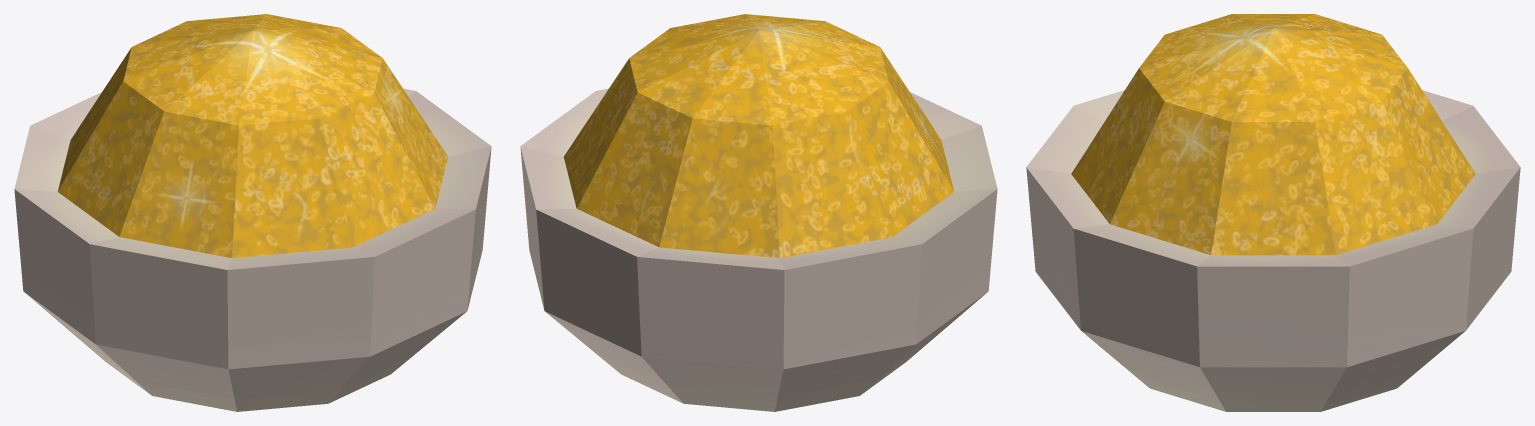
File: tigela_ouro.fbx
3 renders of one model, left to right at view 1: azimuth 30°, elevation 25°; view 2: azimuth 150°, elevation 25°; view 3: azimuth 270°, elevation 25°, orthographic.
Parts seen in each view (by area): view 1: Sphere001; view 2: Sphere001; view 3: Sphere001.
Boxes of the visible parts, left/top/right/bottom form: Sphere001: left=14, top=14, right=491, bottom=411; Sphere001: left=520, top=14, right=997, bottom=411; Sphere001: left=1026, top=14, right=1520, bottom=411.
Size of the model in its own units: 50.38 by 43.41 by 52.97.
1 material, 1 textured.
